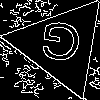G: (36, 20, 85, 72)
